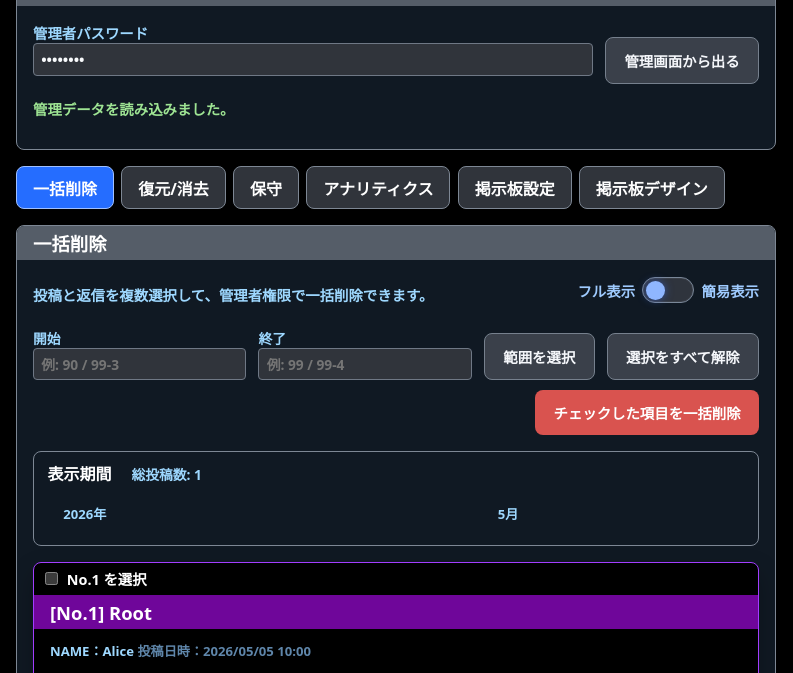
Scenario: AdminPage › renumbers posts by created date from maintenance
Click the button "保守": [266, 188] box [233,166,299,209]
(page scrolled)
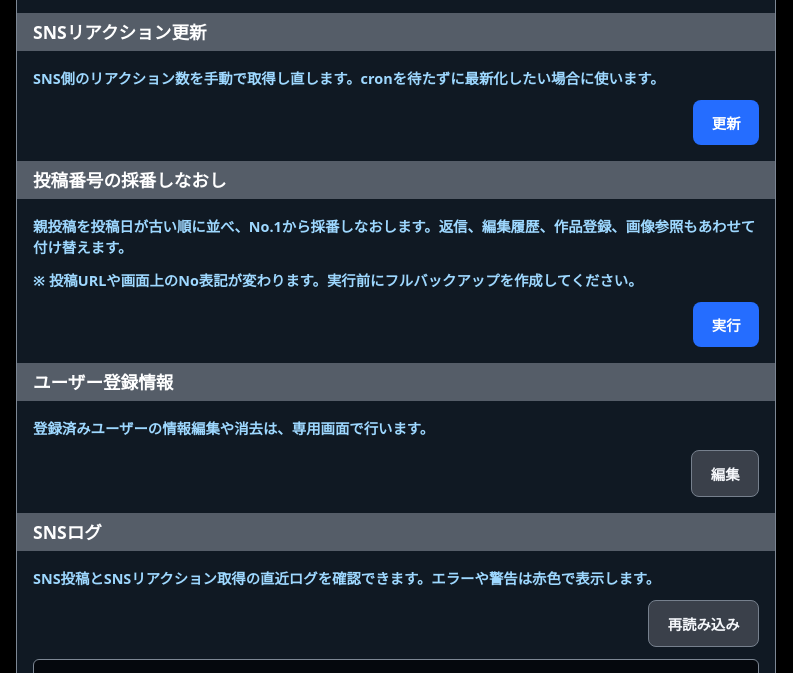
Click the button "実行": [726, 324] box [693,302,759,347]
(page scrolled)
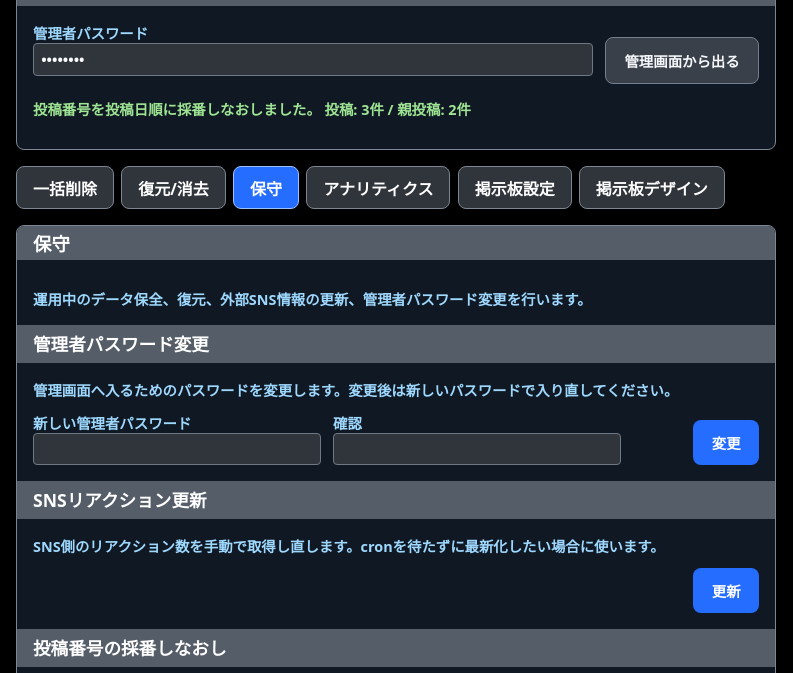
Expected: the text "投稿番号を投稿日順に採番しなおしました。 投稿: 3件 / 親投稿: 2件" is shown, [33,100,471,119]
